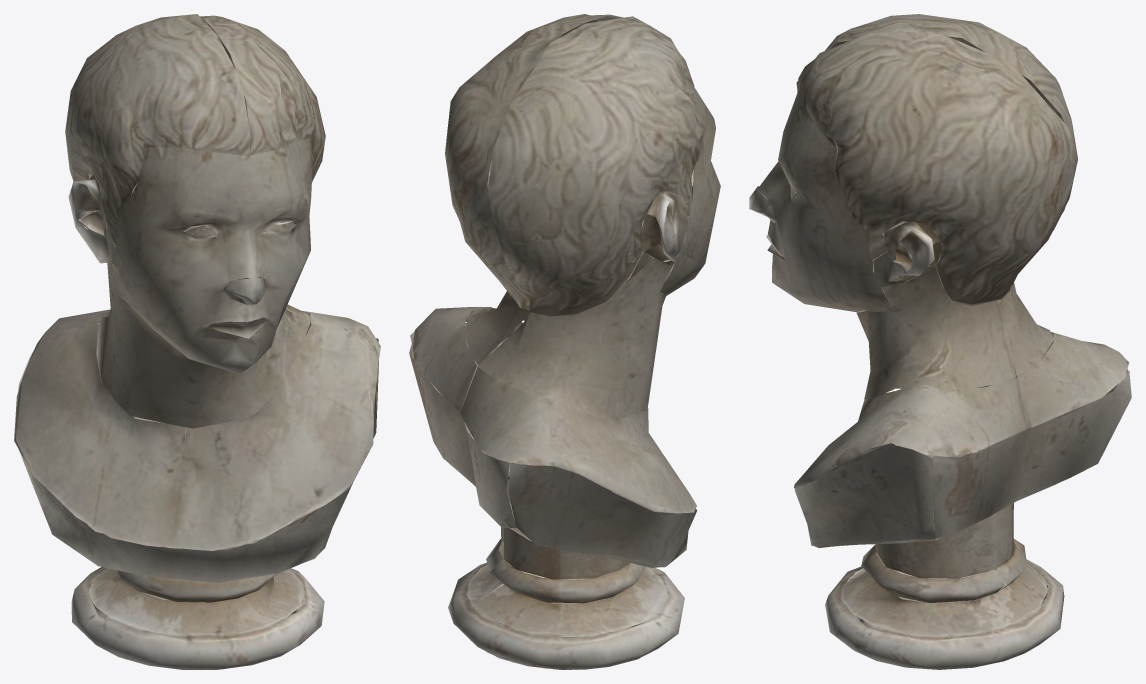
The model's file is marble_bust_01_1k.gltf.lod.glb.
3 views of the same model, side by side, from view 1: azimuth 30°, elevation 25°; view 2: azimuth 150°, elevation 25°; view 3: azimuth 270°, elevation 25° (orthographic). The views are drawn at different scales.
Parts seen in each view (by area): view 1: marble_bust_01; view 2: marble_bust_01; view 3: marble_bust_01.
Boxes of the visible parts, box(x1,y1,x2,y2) form: marble_bust_01: box(14, 14, 380, 669); marble_bust_01: box(409, 14, 720, 669); marble_bust_01: box(749, 14, 1131, 669).
Bounding box in the file's own units: 0.2737 × 0.5152 × 0.3007.
Materials: 1 (1 with a texture image).
